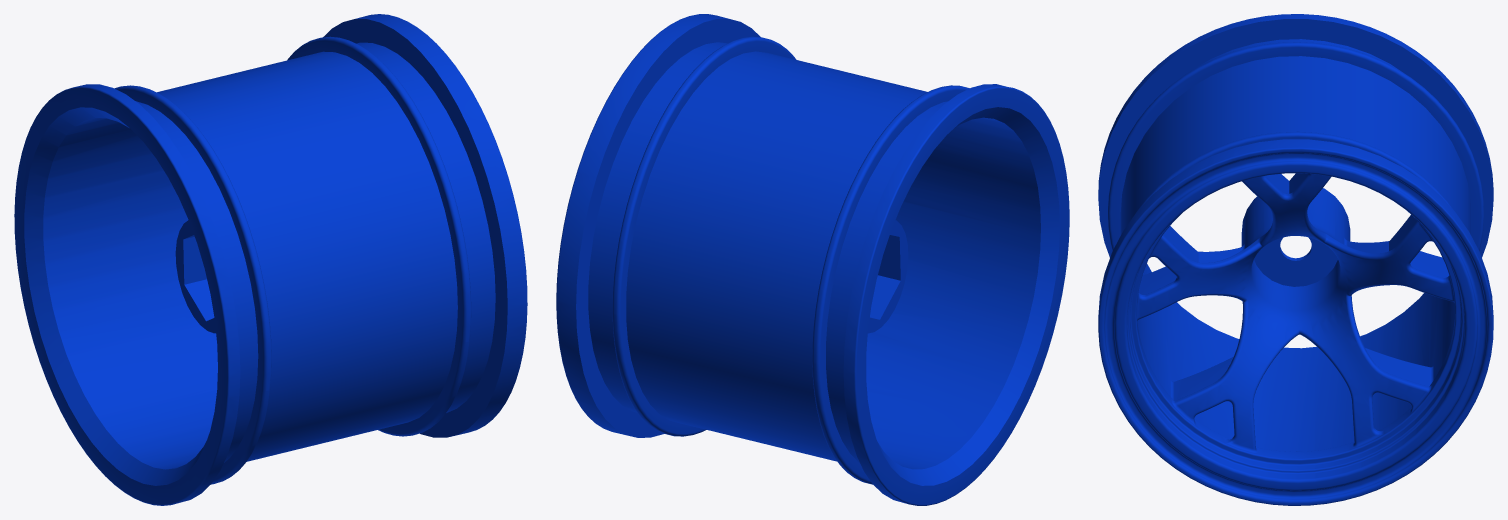
File: Plastic_Wheel_130mm__Plastic_Rim_2_2.dae
3 views of the same model, side by side, from view 1: azimuth 30°, elevation 25°; view 2: azimuth 150°, elevation 25°; view 3: azimuth 270°, elevation 25° (orthographic). The views are drawn at different scales.
Visible parts, largest first — view 1: node0; view 2: node0; view 3: node0.
Boxes of the visible parts, x1,y1,x2,y2 form: node0: (14, 14, 527, 505); node0: (556, 14, 1069, 505); node0: (1098, 14, 1493, 505).
Bounding box in the file's own units: 0.05 × 0.062 × 0.062.
